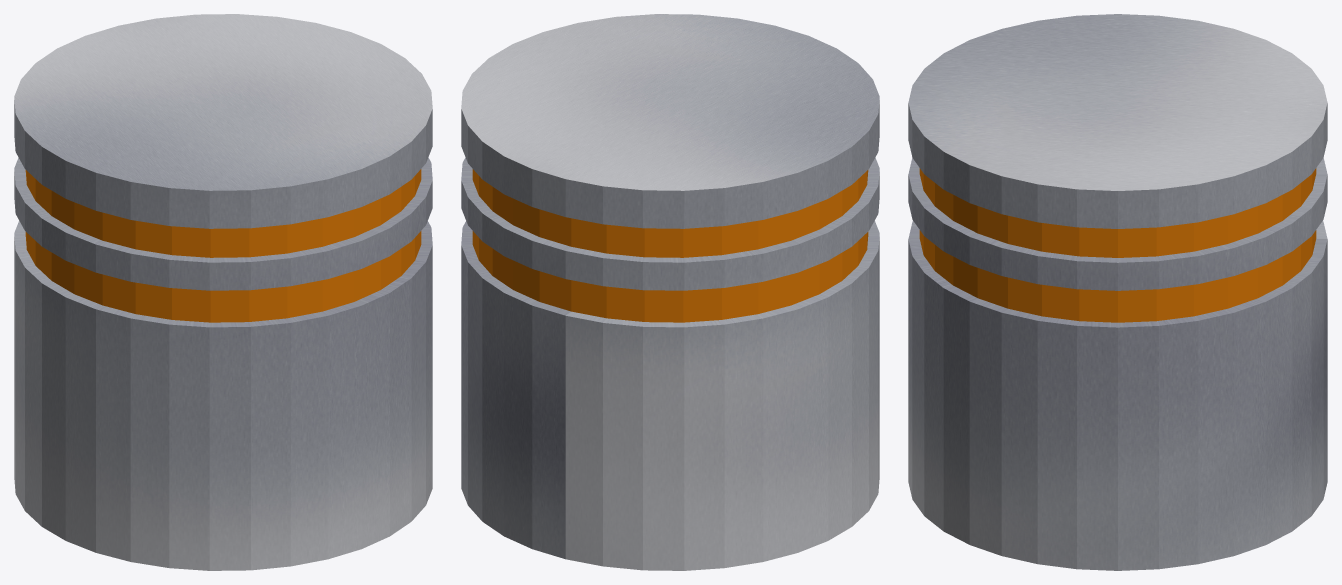
File: aluminum.fbx
The picture shows the model from 3 angles, left to right: view 1: azimuth 30°, elevation 25°; view 2: azimuth 150°, elevation 25°; view 3: azimuth 270°, elevation 25°; orthographic projection.
Visible parts, largest first — view 1: Алюминий, Металл.002; view 2: Алюминий, Металл.002; view 3: Алюминий, Металл.002.
Boxes of the visible parts, left/top/right/bottom form: Алюминий: left=14, top=14, right=432, bottom=570; Металл.002: left=25, top=169, right=421, bottom=322; Алюминий: left=461, top=14, right=879, bottom=570; Металл.002: left=472, top=169, right=868, bottom=322; Алюминий: left=908, top=14, right=1327, bottom=570; Металл.002: left=919, top=168, right=1316, bottom=322.
Bounding box in the file's own units: 1 × 1 × 1.
Materials: 2 (1 with a texture image).
